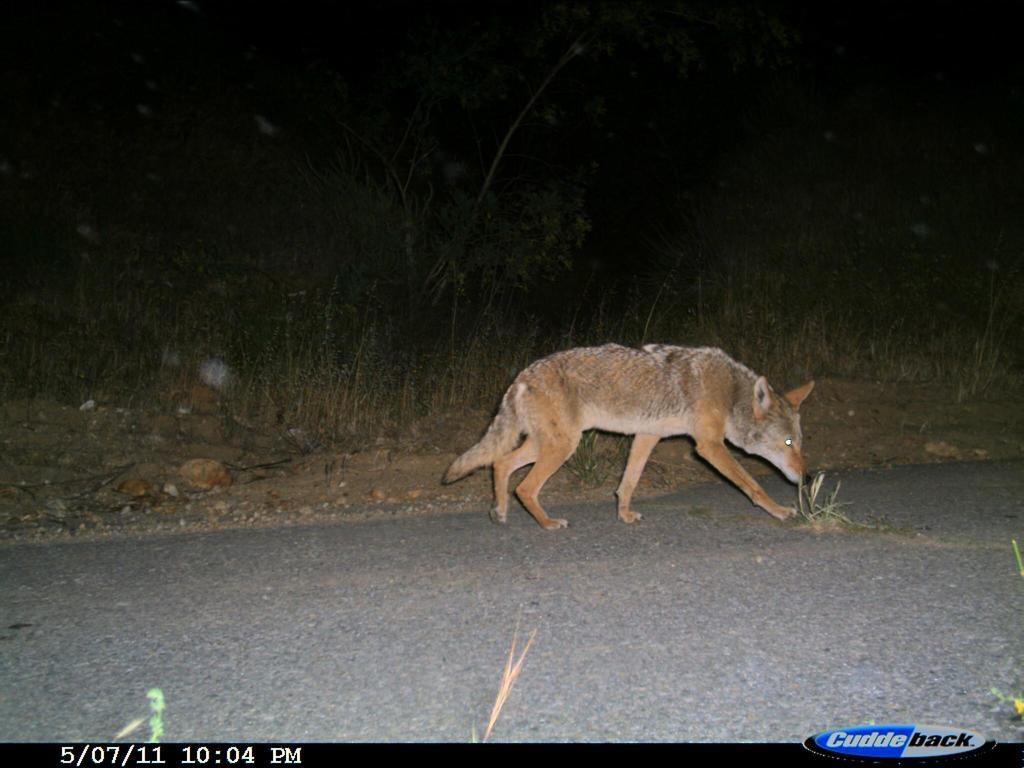coyote: (441, 332, 827, 543)
